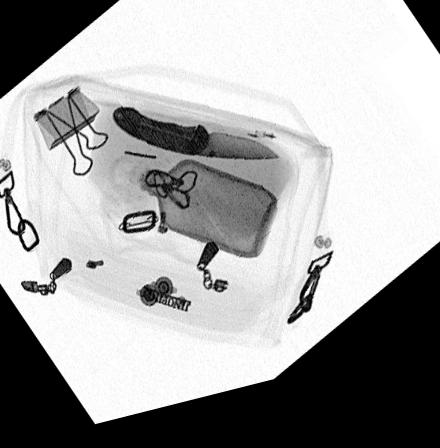Knife: (109, 110, 281, 174)
